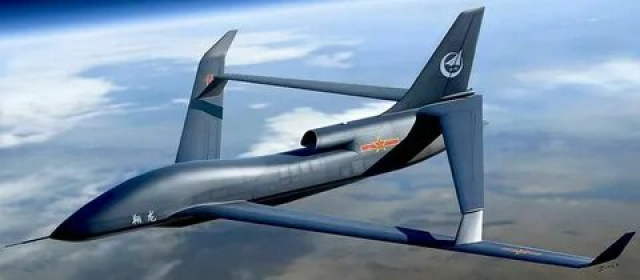military drone: (5, 6, 635, 268)
